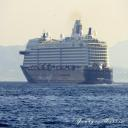cruises: (19, 21, 116, 86)
